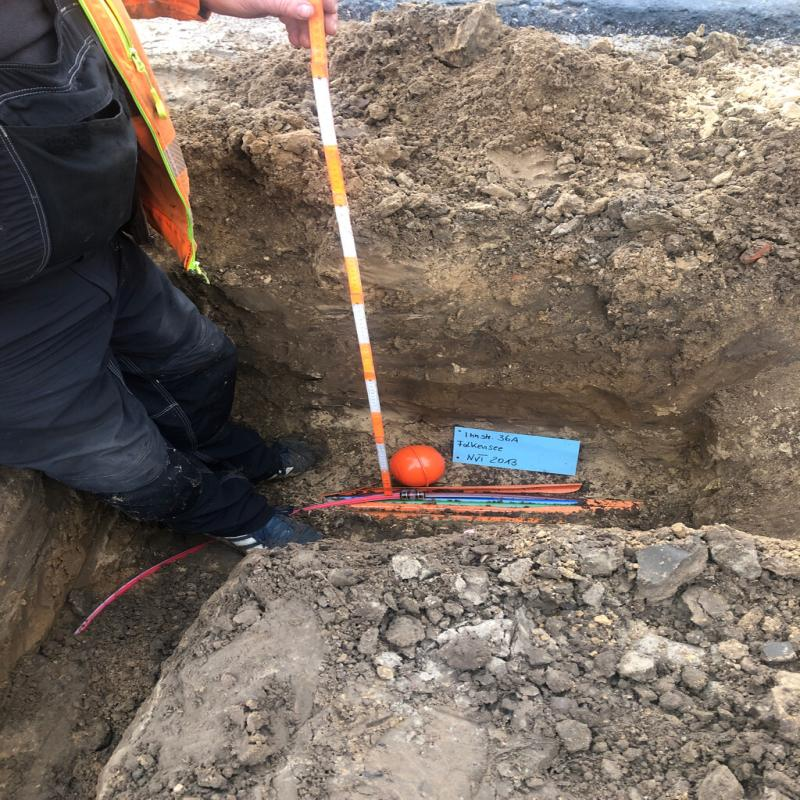Kugelmarker: (388, 445, 444, 486)
Orang-Speednetrohrchen: (354, 487, 643, 521)
